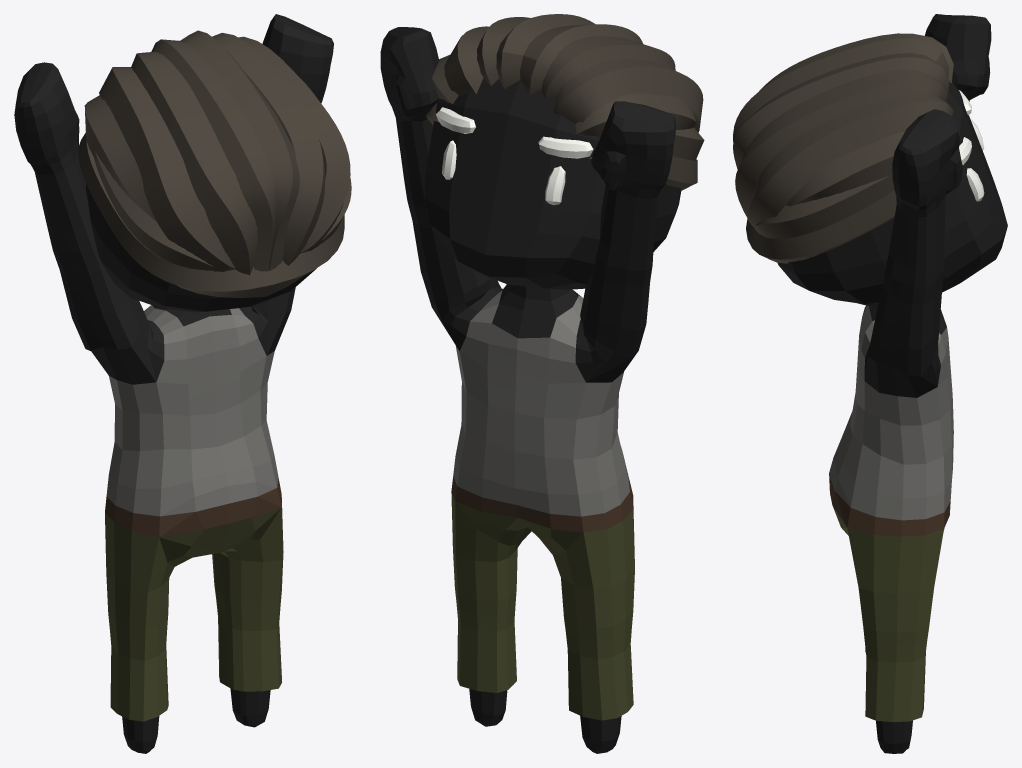
The model's file is Moun_Casual3_Male_Cheer.fbx.
3 renders of one model, left to right at view 1: azimuth 30°, elevation 25°; view 2: azimuth 150°, elevation 25°; view 3: azimuth 270°, elevation 25°, orthographic. The views are drawn at different scales.
Parts seen in each view (by area): view 1: Moun_Casual3_Male_Cheer; view 2: Moun_Casual3_Male_Cheer; view 3: Moun_Casual3_Male_Cheer.
Boxes of the visible parts, <box> form: Moun_Casual3_Male_Cheer: <box>14,14,351,753</box>; Moun_Casual3_Male_Cheer: <box>380,14,704,753</box>; Moun_Casual3_Male_Cheer: <box>733,14,1007,753</box>.
Size of the model in its own units: 0.7605 by 1.68 by 0.6176.
